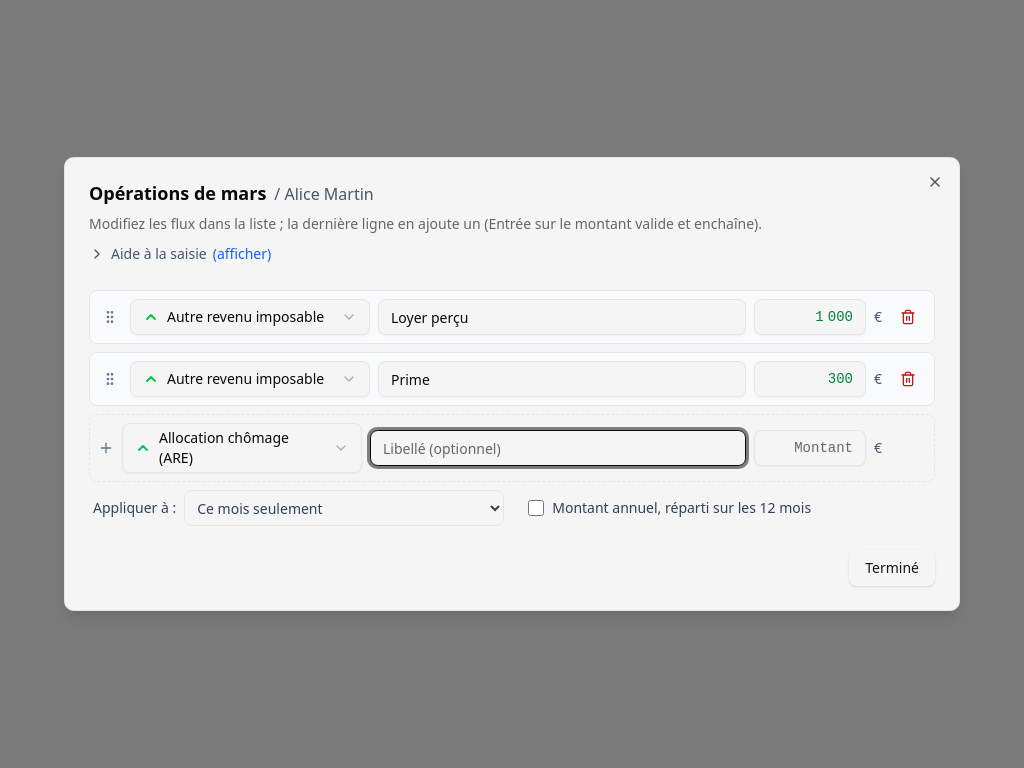
Scenario: MonthlyFlowsModal : lignes existantes › supprime un flux avec son bouton
The image size is (1024, 768).
What coordinates should you click on to do the following:
click the 1st button named "Supprimer le flux"
I would click on:
 (908, 317)
Its box is left=890, top=299, right=926, bottom=335.
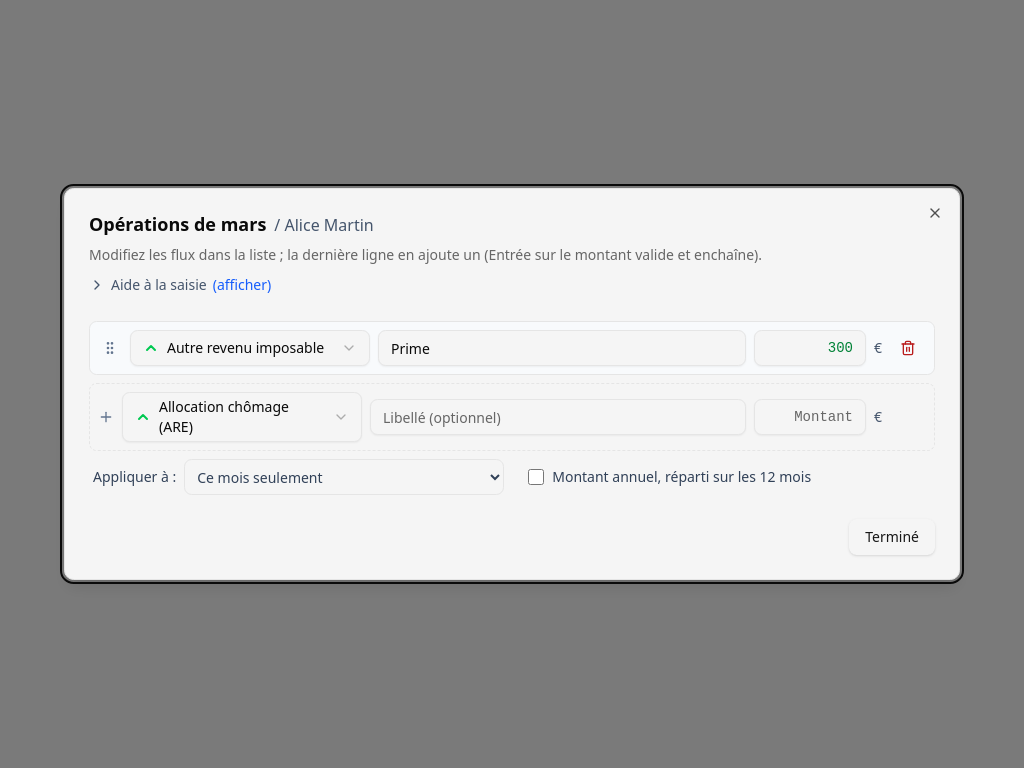
Check: the field named "Libellé" holds "Prime", box left=378, top=330, right=746, bottom=366
Check: the number of fields named "Libellé" is 1, box left=378, top=330, right=746, bottom=366
